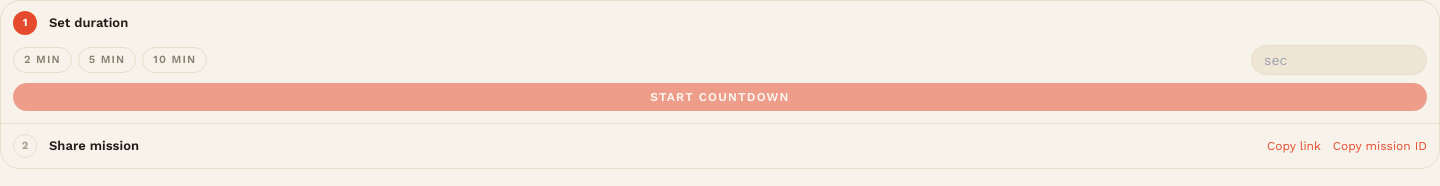
it: HostRallyPointSteps › toggles accordion headers and expands only one step
The width and height of the screenshot is (1440, 186).
Click the button "2 Share mission": (94, 146) [13,134,1255,158]
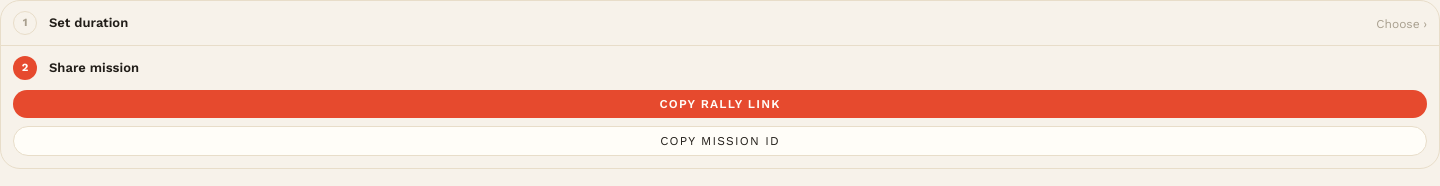
expect the button "2 Share mission" is expanded: met, box [13,56,1427,80]
expect the button "1 Set duration" is collapsed: met, box [13,11,1364,35]
expect the button "COPY RALLY LINK" is shown: met, box [13,90,1427,118]
